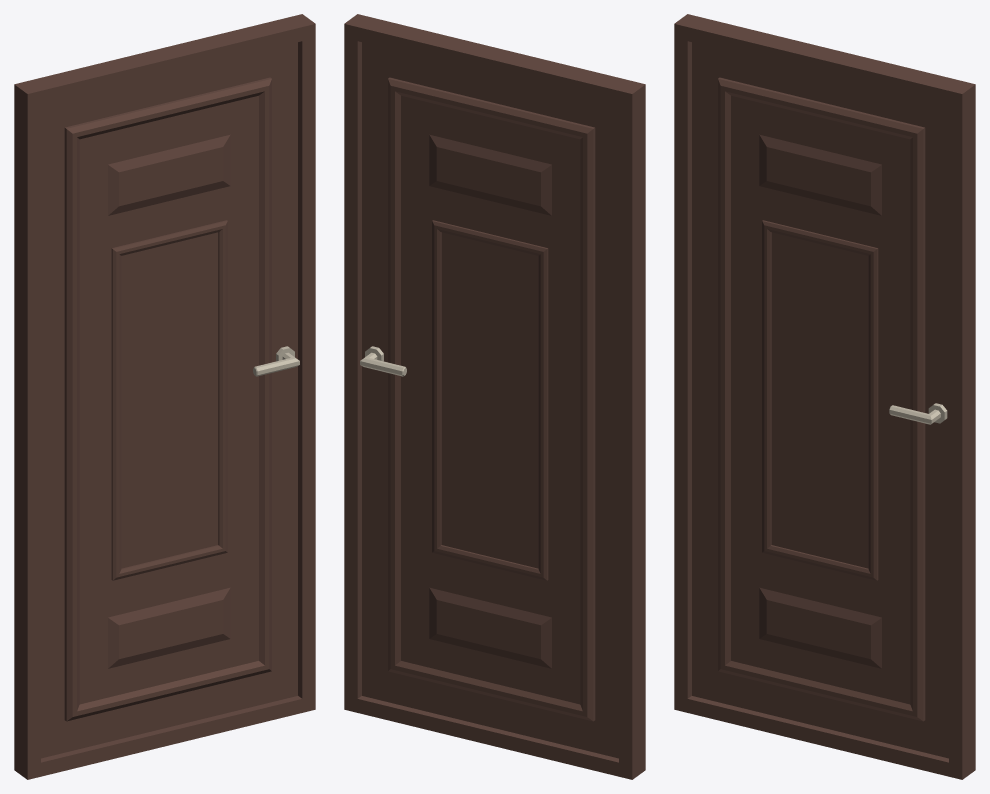
The model's file is Mesh_Door_C07.fbx.
The picture shows the model from 3 angles, left to right: view 1: azimuth 30°, elevation 25°; view 2: azimuth 150°, elevation 25°; view 3: azimuth 330°, elevation 25°; orthographic projection.
Parts seen in each view (by area): view 1: Mesh_Door_C07; view 2: Mesh_Door_C07; view 3: Mesh_Door_C07.
Boxes of the visible parts, x1,y1,x2,y2 form: Mesh_Door_C07: [14, 14, 315, 779]; Mesh_Door_C07: [344, 14, 645, 779]; Mesh_Door_C07: [674, 14, 975, 779].
Size of the model in its own units: 0.9 by 2.05 by 0.1524.
